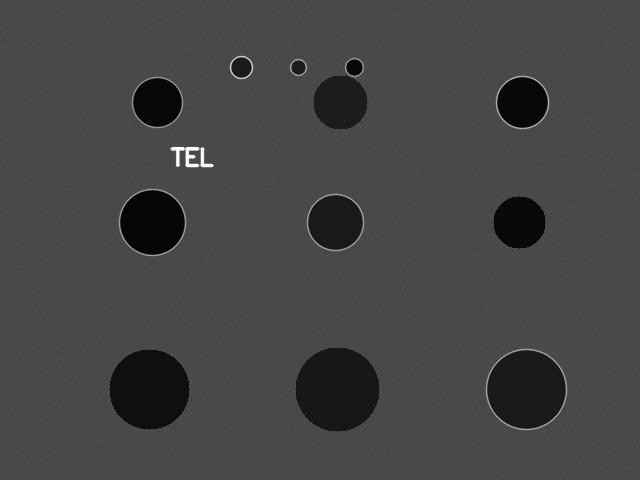hole: (295, 347, 379, 431), (109, 349, 189, 429), (486, 349, 566, 429), (119, 189, 185, 255), (307, 194, 363, 250), (313, 75, 367, 129), (496, 76, 548, 128), (493, 196, 545, 248), (132, 77, 182, 127), (230, 56, 252, 78), (345, 58, 363, 76), (290, 59, 306, 75)
